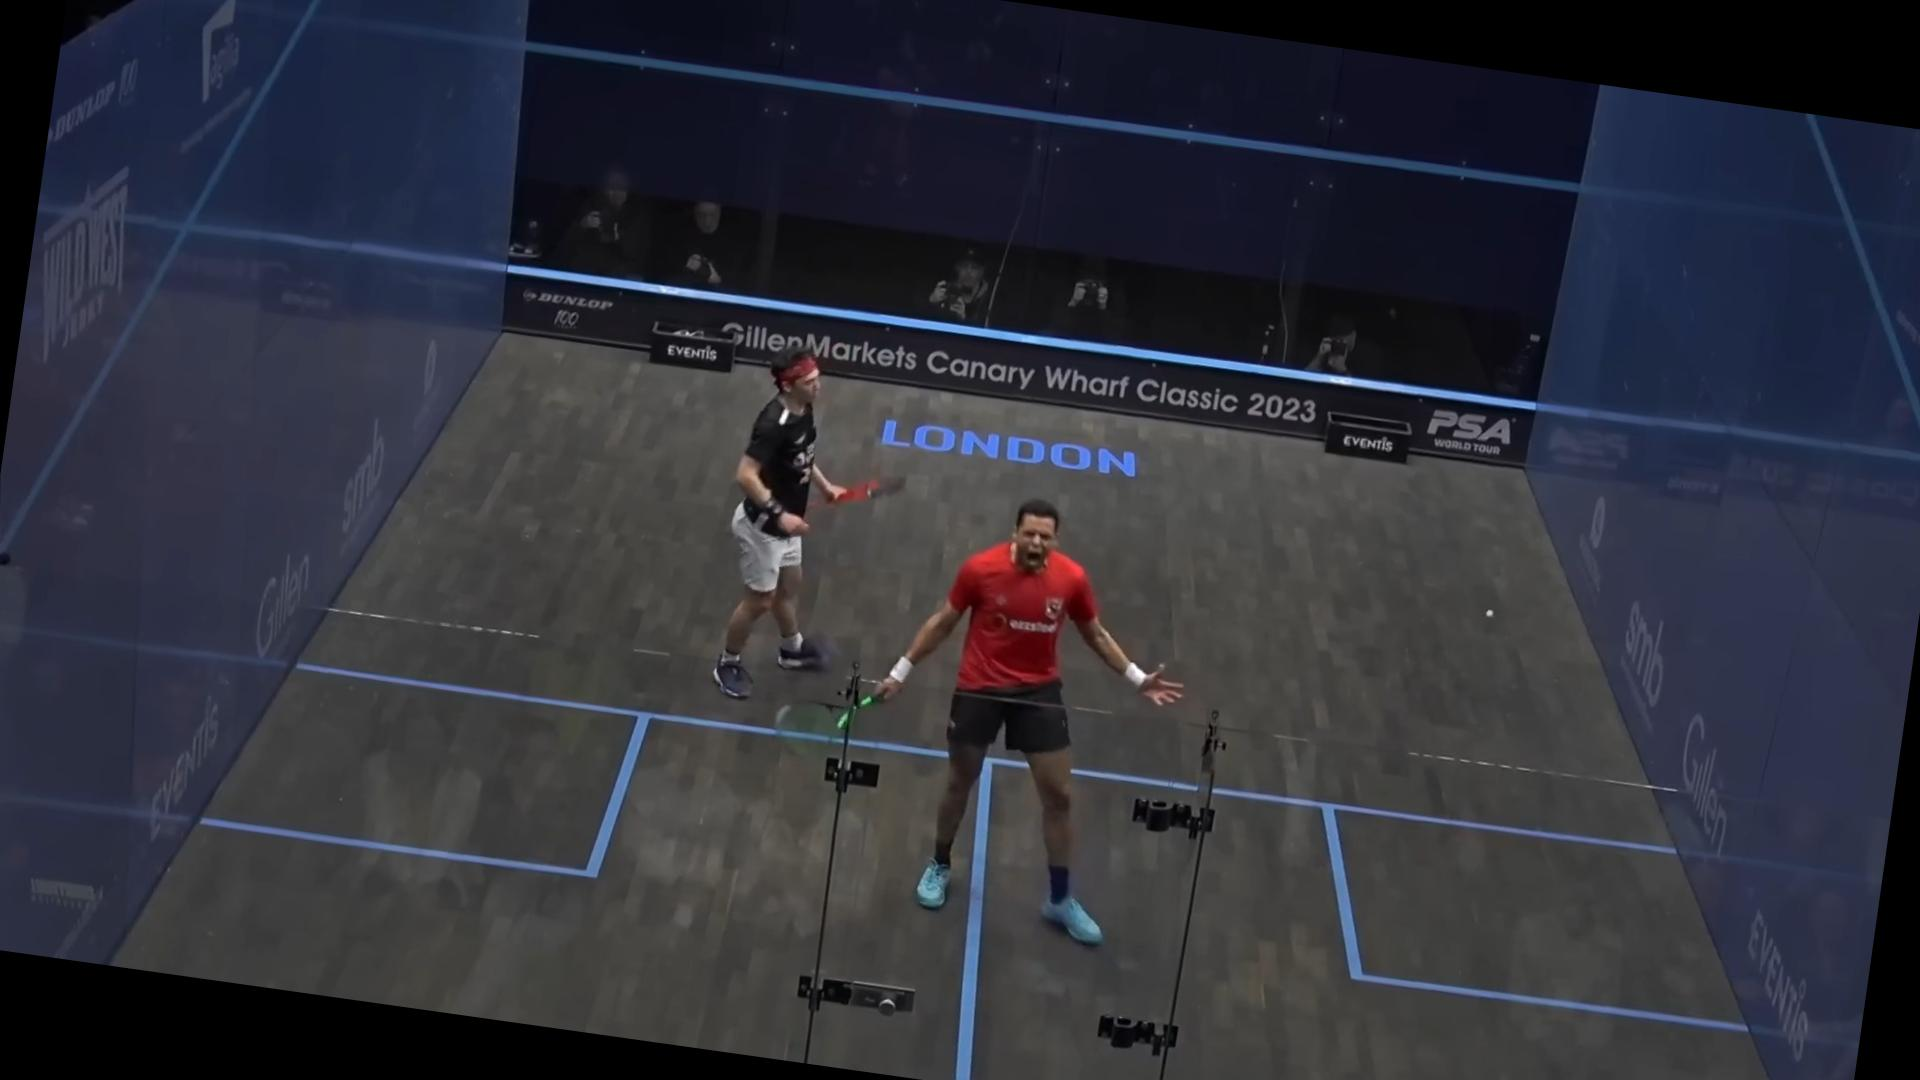Racket: (758, 676, 886, 777)
